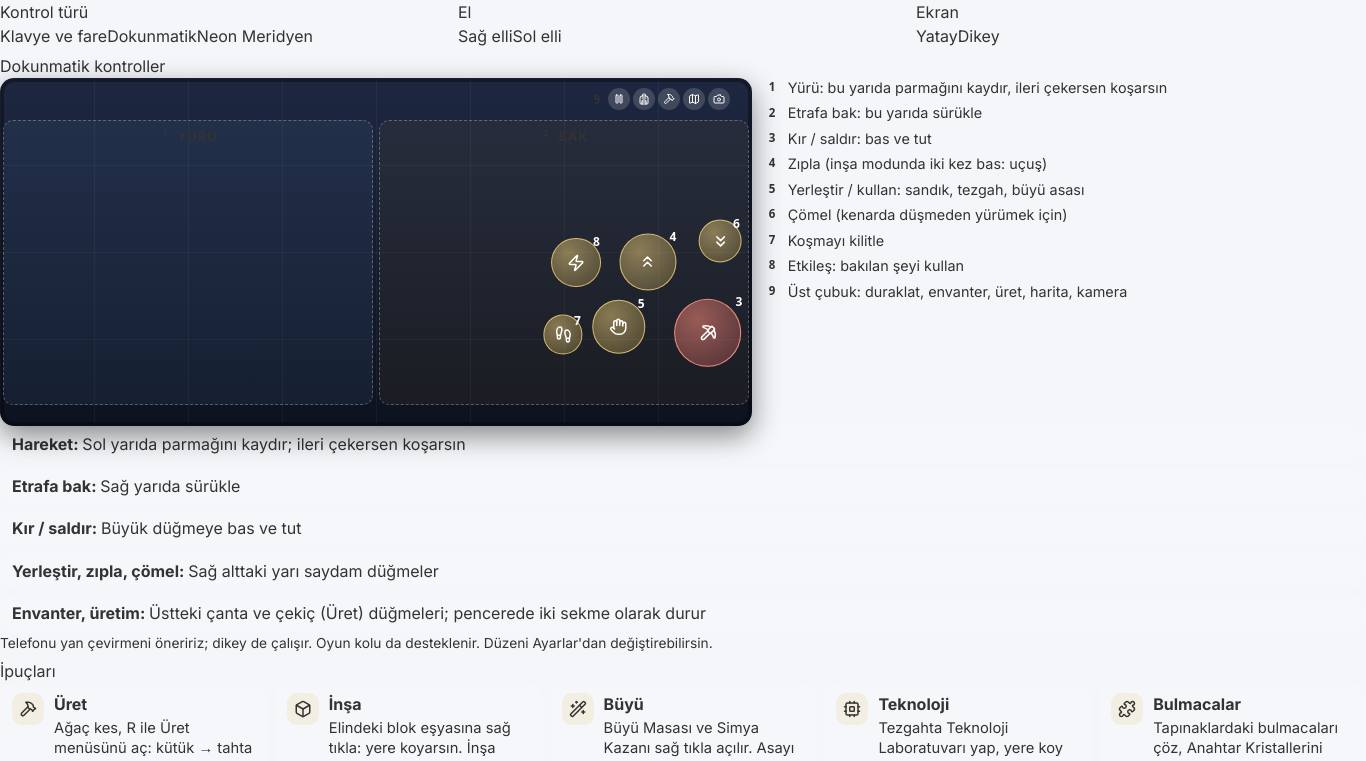
PauseHowTo: Neon Meridyen sekmesi › dokunmatik sekmede el/ekran seçimi yalnız dokunmatik sayfada; şehir sayfasında yok
Check: the button "Sağ elli" is shown, box x1=458 y1=24 x2=512 y2=48
Click the button "Neon Meridyen" at x=255, y=36, box x1=197 y1=24 x2=313 y2=48
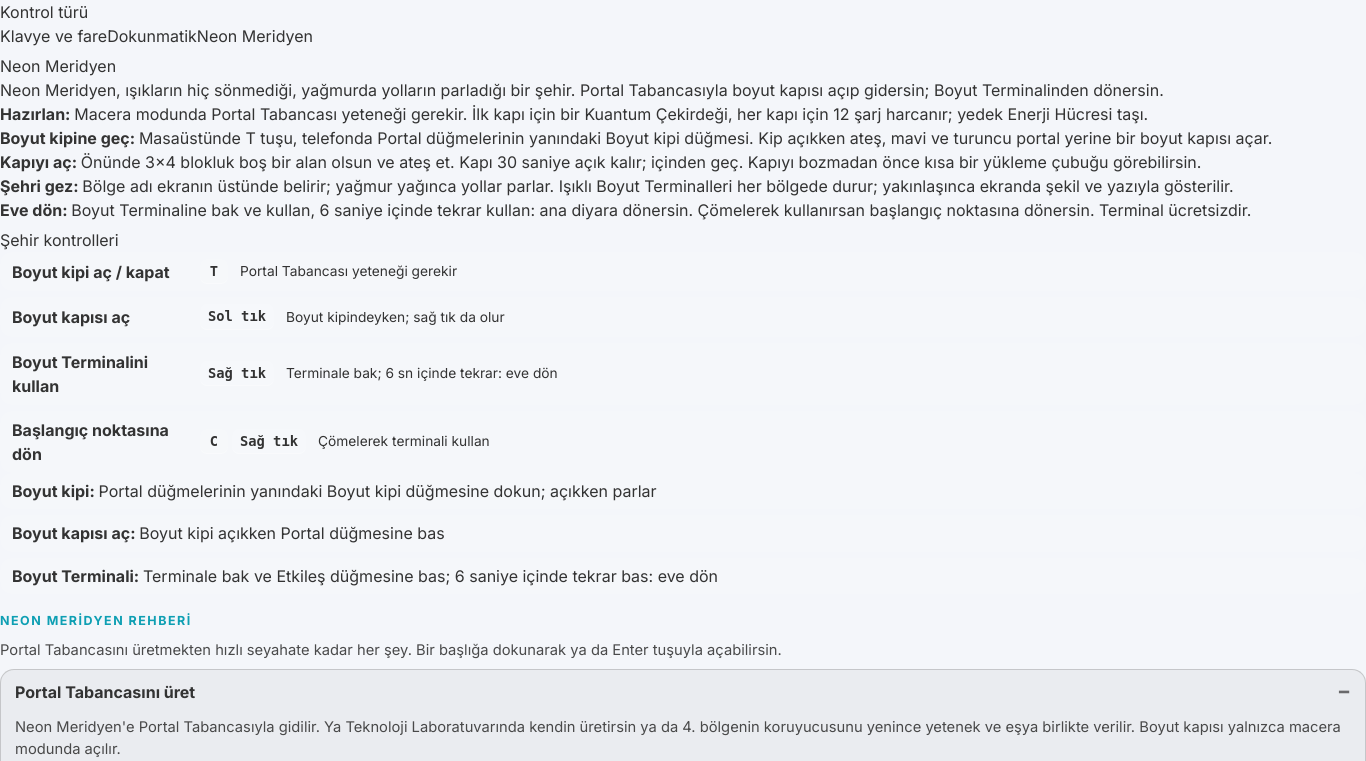
Check: the button "Sağ elli" is gone
Check: the list named "Neon Meridyen dokunmatik kontroller" is shown, box x1=0 y1=473 x2=1365 y2=594
